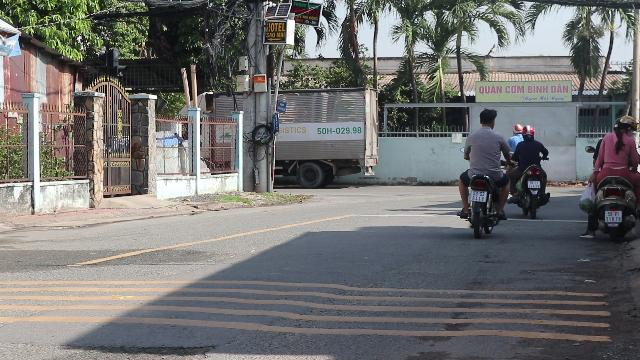helmet: (616, 115, 638, 133)
licenseplate: (470, 190, 488, 201), (606, 210, 622, 222)
motorcyclist: (578, 114, 640, 242), (454, 108, 511, 236)
nohelmet: (477, 108, 497, 128)
